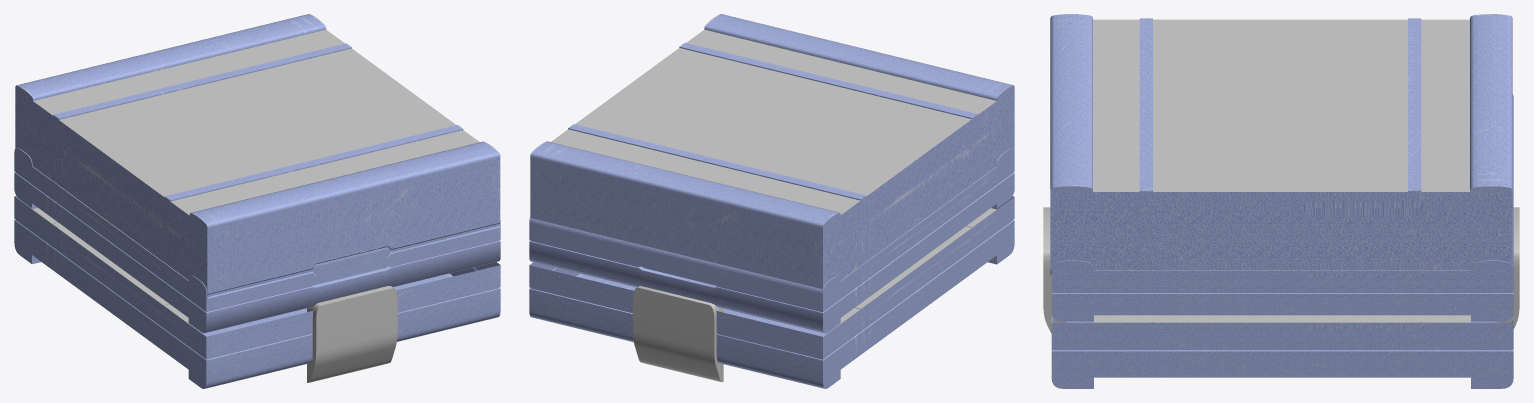
File: 第二階.fbx
3 views of the same model, side by side, from view 1: azimuth 30°, elevation 25°; view 2: azimuth 150°, elevation 25°; view 3: azimuth 270°, elevation 25° (orthographic). The views are drawn at different scales.
Parts seen in each view (by area): view 1: KB3D_HTS_PathA_A_Main_1, KB3D_HTS_PathA_A_Main_1__2_.002, KB3D_HTS_PathA_A_Main_1__1_.001, KB3D_HTS_PathA_A_Main_1.001; view 2: KB3D_HTS_PathA_A_Main_1, KB3D_HTS_PathA_A_Main_1__2_.002, KB3D_HTS_PathA_A_Main_1__1_.001, KB3D_HTS_PathA_A_Main_1.001; view 3: KB3D_HTS_PathA_A_Main_1, KB3D_HTS_PathA_A_Main_1__2_.002, KB3D_HTS_PathA_A_Main_1__1_.001, KB3D_HTS_PathA_A_Main_1.001.
Boxes of the visible parts, left/top/right/bottom form: KB3D_HTS_PathA_A_Main_1: left=15, top=14, right=500, bottom=298; KB3D_HTS_PathA_A_Main_1__2_.002: left=14, top=196, right=500, bottom=388; KB3D_HTS_PathA_A_Main_1__1_.001: left=14, top=148, right=500, bottom=333; KB3D_HTS_PathA_A_Main_1.001: left=307, top=285, right=397, bottom=382; KB3D_HTS_PathA_A_Main_1: left=530, top=14, right=1014, bottom=289; KB3D_HTS_PathA_A_Main_1__2_.002: left=529, top=196, right=1014, bottom=388; KB3D_HTS_PathA_A_Main_1__1_.001: left=529, top=148, right=1014, bottom=333; KB3D_HTS_PathA_A_Main_1.001: left=633, top=286, right=723, bottom=382; KB3D_HTS_PathA_A_Main_1: left=1050, top=14, right=1512, bottom=276; KB3D_HTS_PathA_A_Main_1__2_.002: left=1051, top=315, right=1513, bottom=388; KB3D_HTS_PathA_A_Main_1__1_.001: left=1051, top=94, right=1513, bottom=321; KB3D_HTS_PathA_A_Main_1.001: left=1043, top=207, right=1519, bottom=333.
Size of the model in its own units: 1714 by 1054 by 1995.
